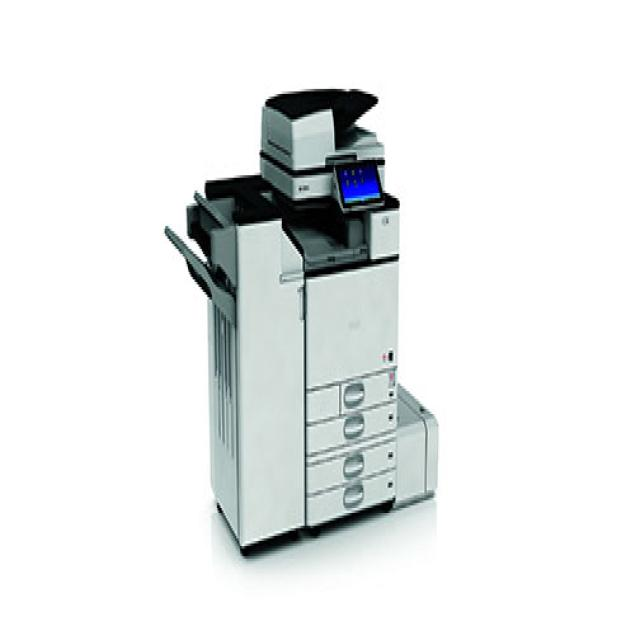printer: (162, 84, 440, 556)
